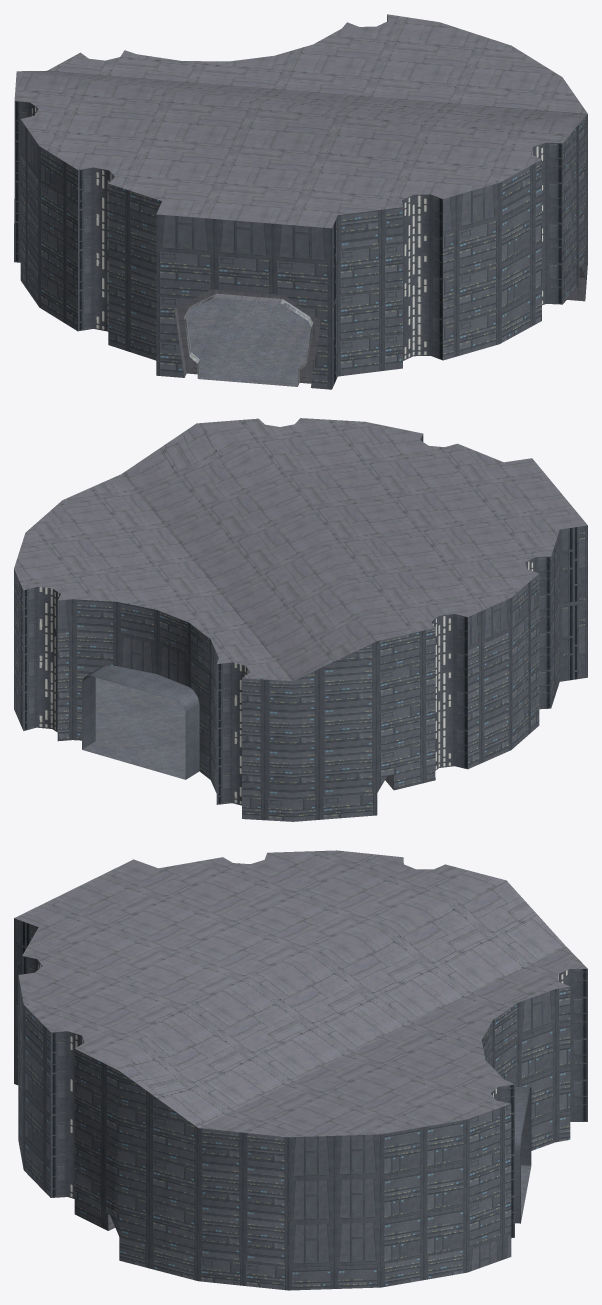
Rendered from mun_nboo_starport_s01_u01_r7_arrivals1_mesh_r7.fbx.
3 renders of one model, top to bottom at view 1: azimuth 30°, elevation 25°; view 2: azimuth 150°, elevation 25°; view 3: azimuth 270°, elevation 25°, orthographic. The views are drawn at different scales.
Parts seen in each view (by area): view 1: mesh_node; view 2: mesh_node; view 3: mesh_node.
Part boxes in pixels (x1,y1,x2,y2): mesh_node: [14, 14, 587, 389]; mesh_node: [14, 418, 587, 821]; mesh_node: [14, 850, 587, 1290].
Size of the model in its own units: 25.91 by 9.16 by 25.11.
